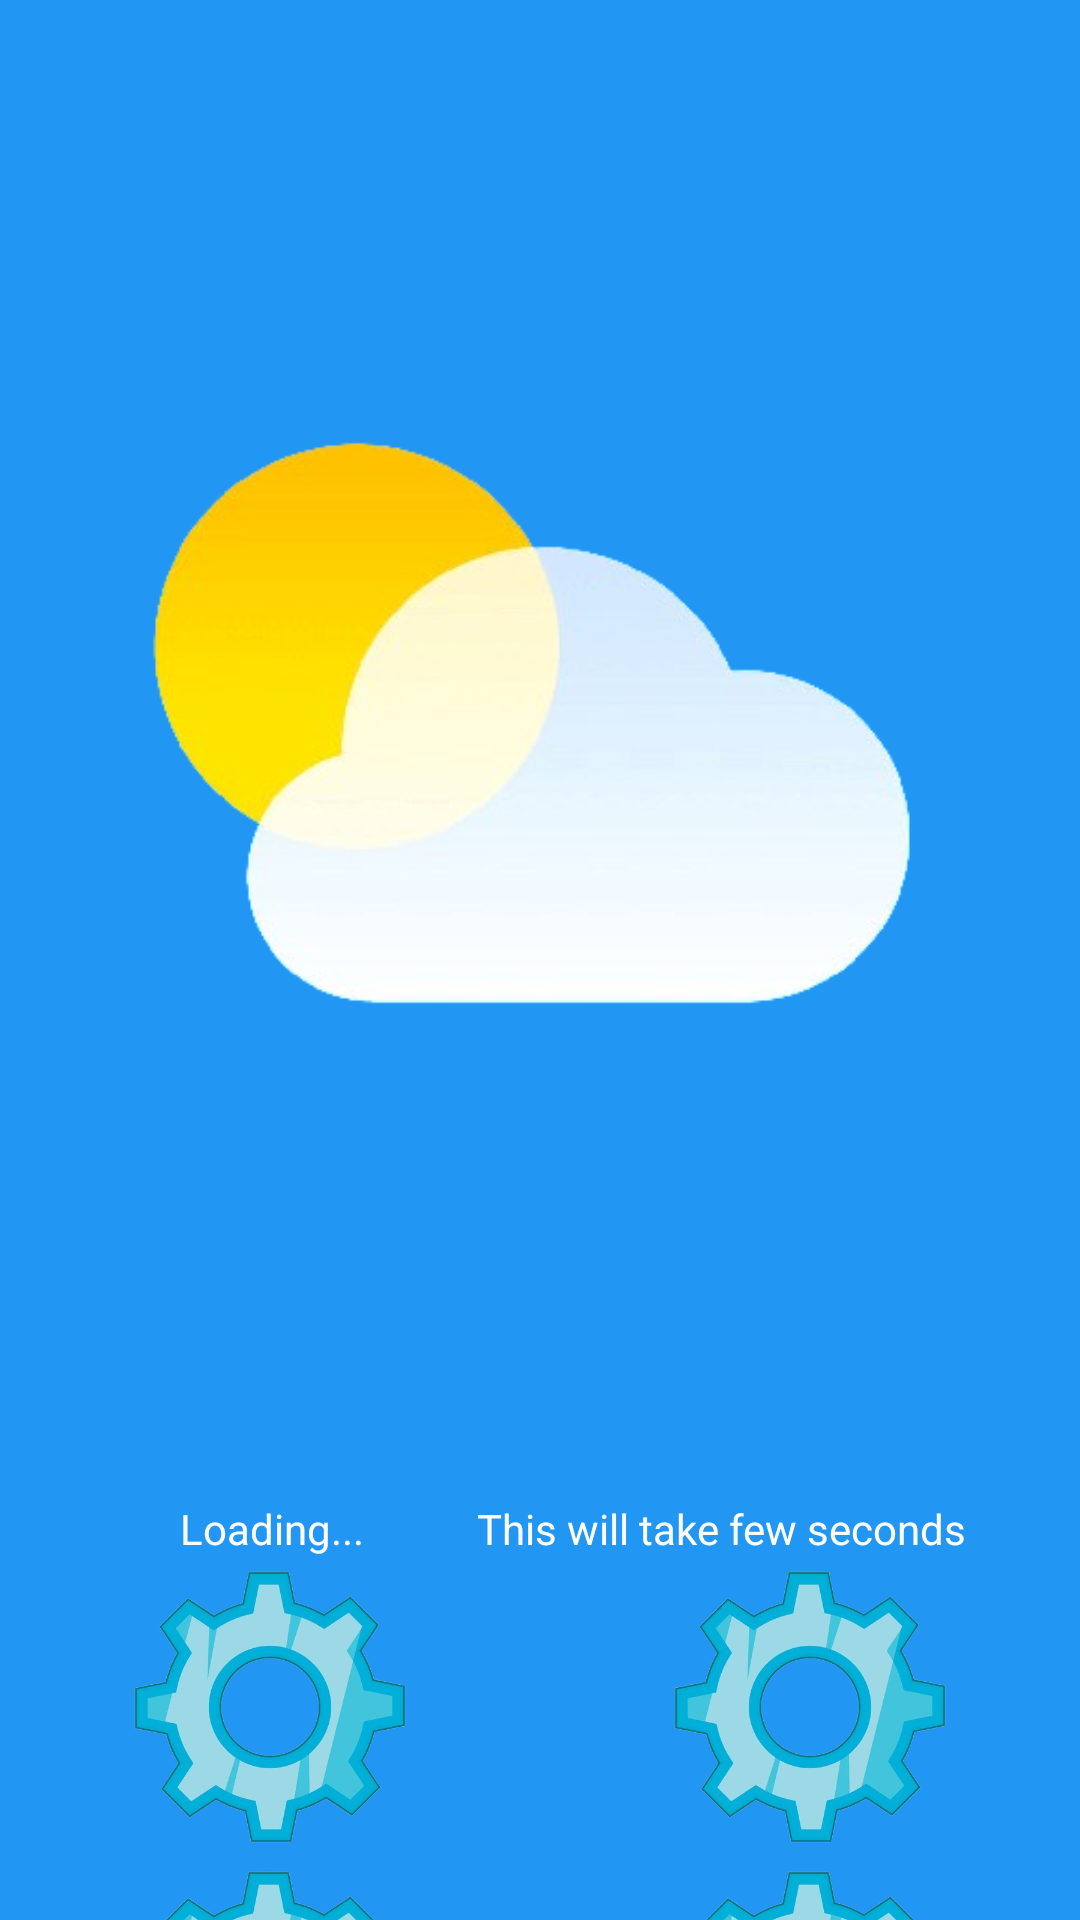

Icon click points for this 1080px×1920px phone screenshot, format point (x, y):
gear: point (270, 1707)
iamgegearru: point (810, 1707)
